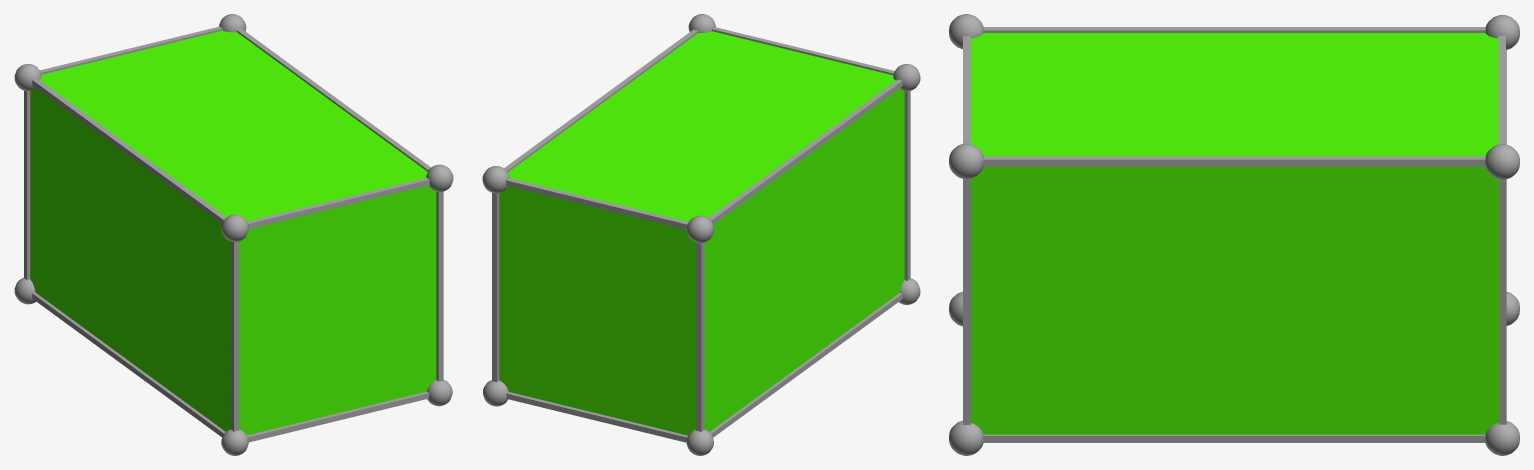
File: green.fbx
3 views of the same model, side by side, from view 1: azimuth 30°, elevation 25°; view 2: azimuth 150°, elevation 25°; view 3: azimuth 270°, elevation 25° (orthographic). The views are drawn at different scales.
Visible parts, largest first — view 1: pCube17; view 2: pCube17; view 3: pCube17.
Boxes of the visible parts, <box> form: pCube17: <box>14,14,453,455</box>; pCube17: <box>482,14,920,455</box>; pCube17: <box>949,14,1519,455</box>.
Bounding box in the file's own units: 191 × 191 × 319.
